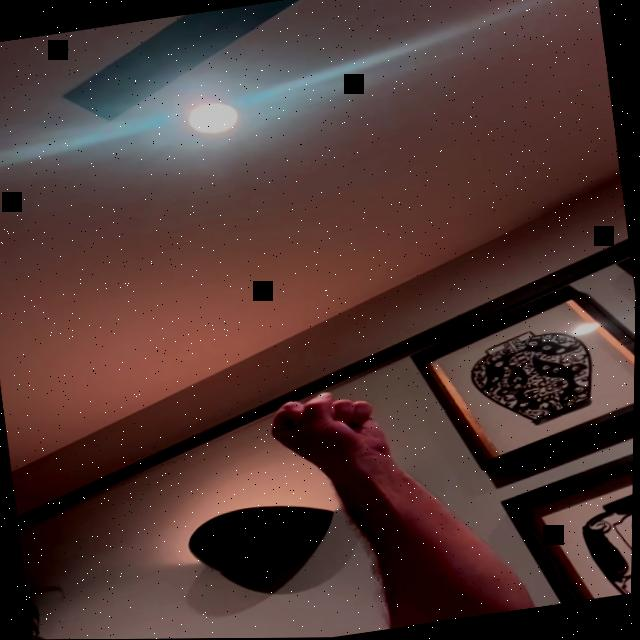Rock: (264, 385, 395, 471)
